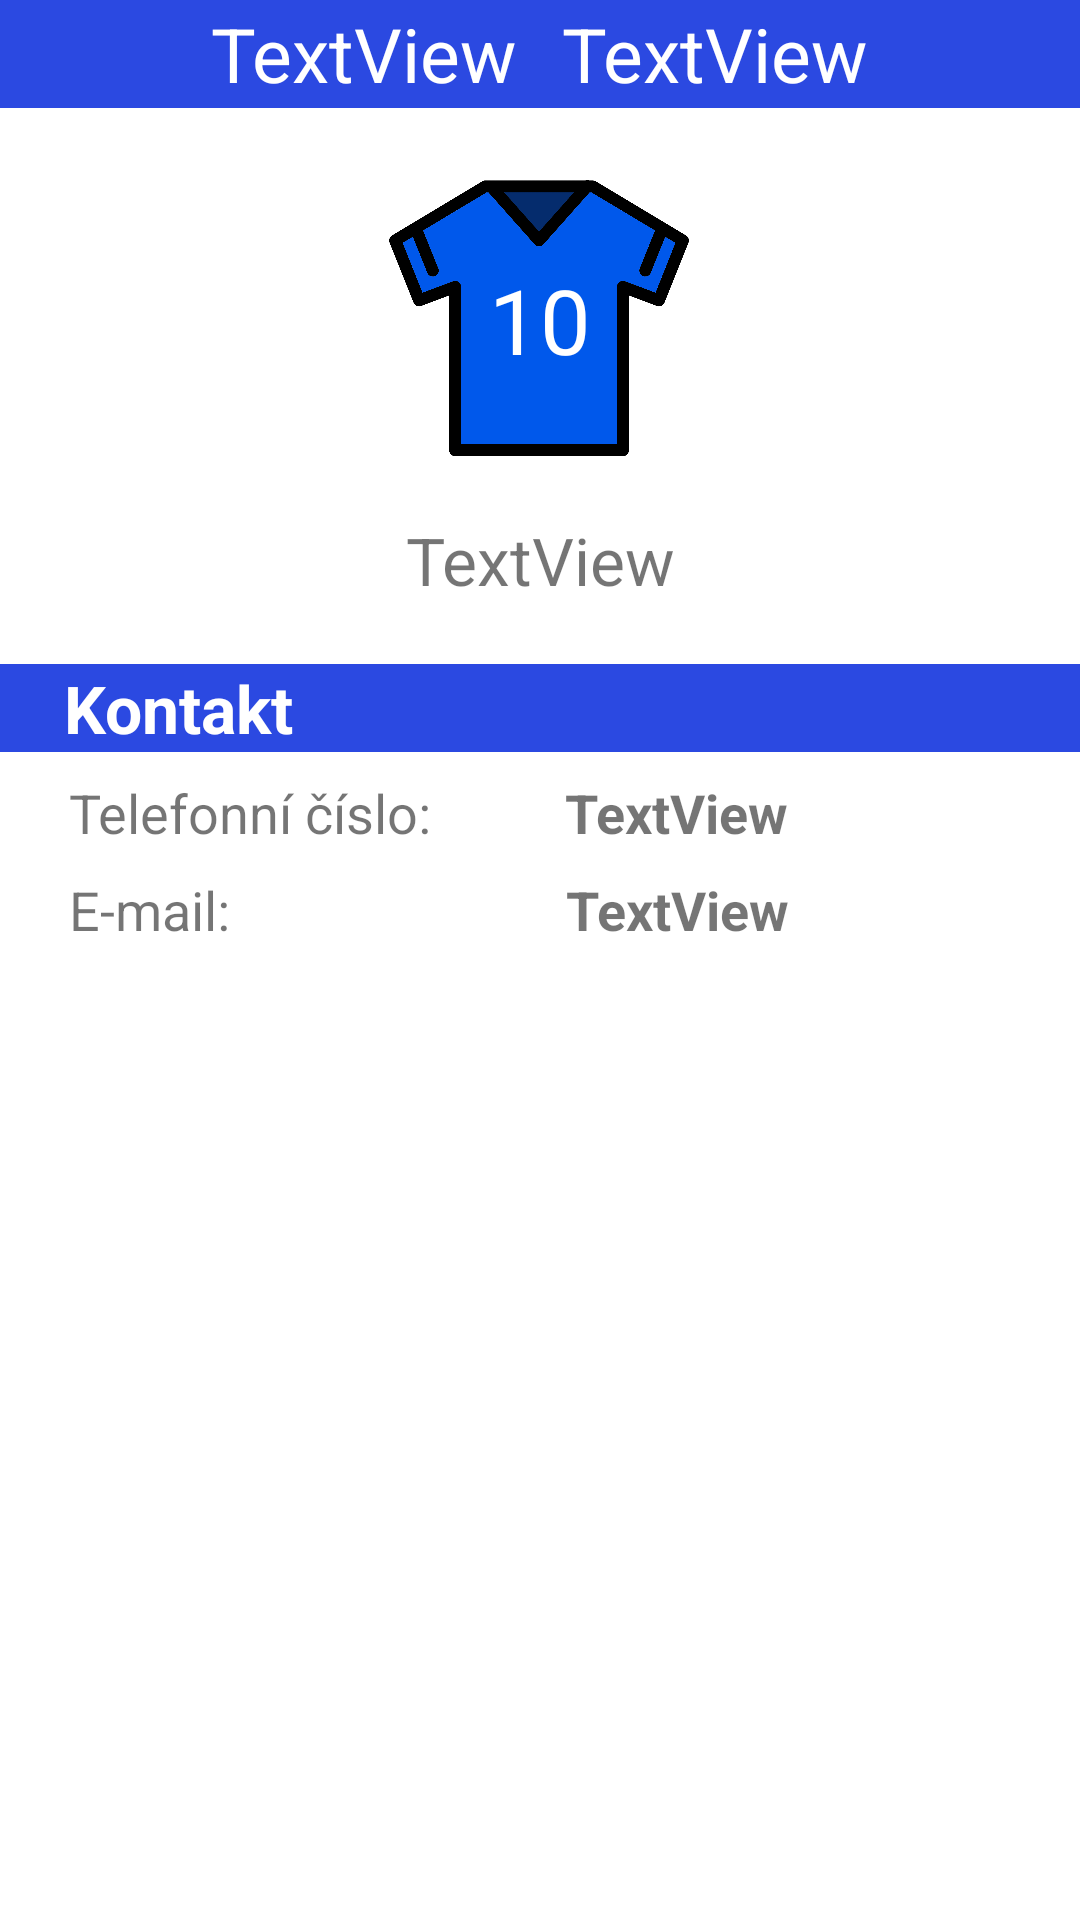

Screen size 1080×1920. Icon name, then its center in pixels as point (x, y):
jersey: point (539, 318)
